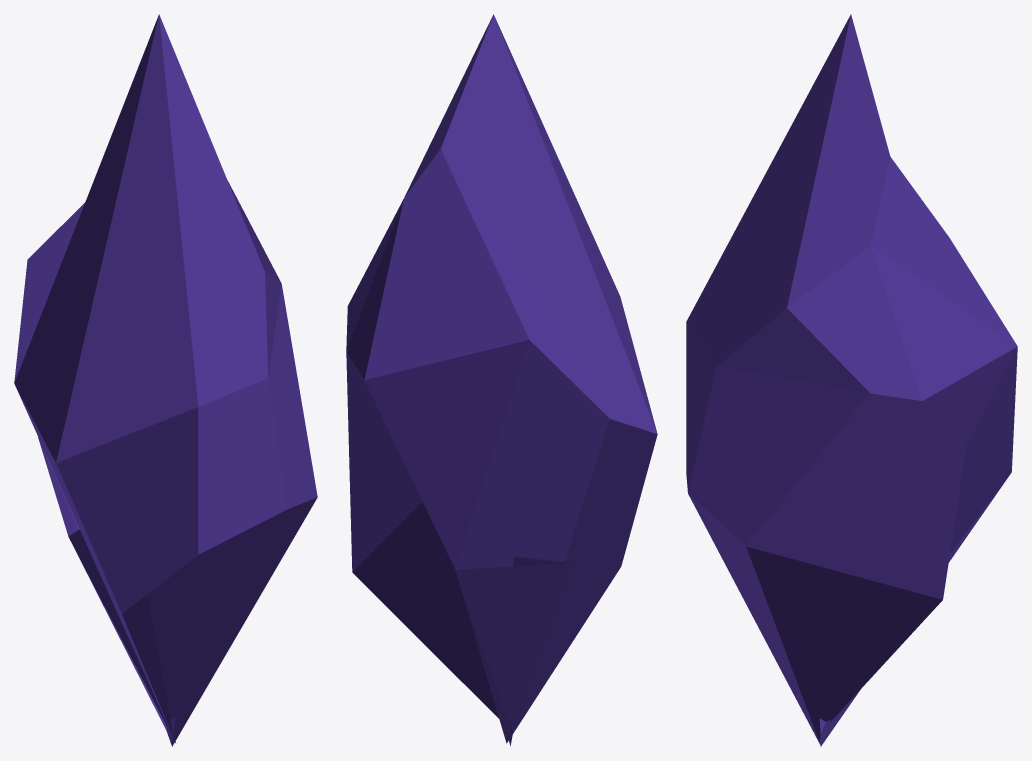
Rendered from polygon.glb.
3 renders of one model, left to right at view 1: azimuth 30°, elevation 25°; view 2: azimuth 150°, elevation 25°; view 3: azimuth 270°, elevation 25°, orthographic. The views are drawn at different scales.
Parts seen in each view (by area): view 1: Cube; view 2: Cube; view 3: Cube.
Part boxes in pixels (<box>): Cube: <box>14,14,317,746</box>; Cube: <box>346,14,657,746</box>; Cube: <box>686,14,1017,746</box>.
Size of the model in its own units: 1.9 by 4.97 by 2.04.
